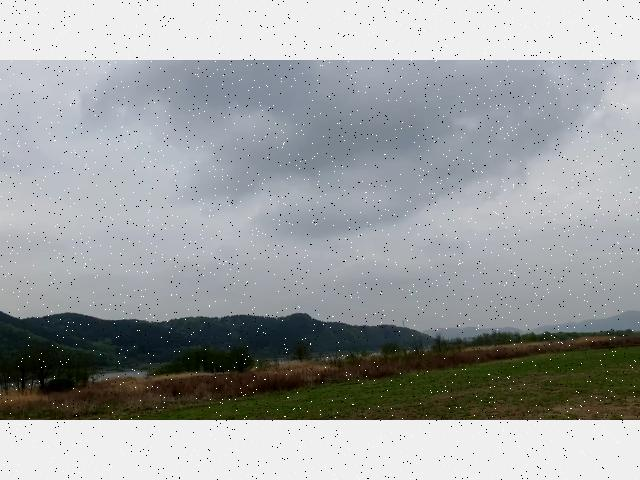Anti-Drone: (352, 219, 374, 233)
